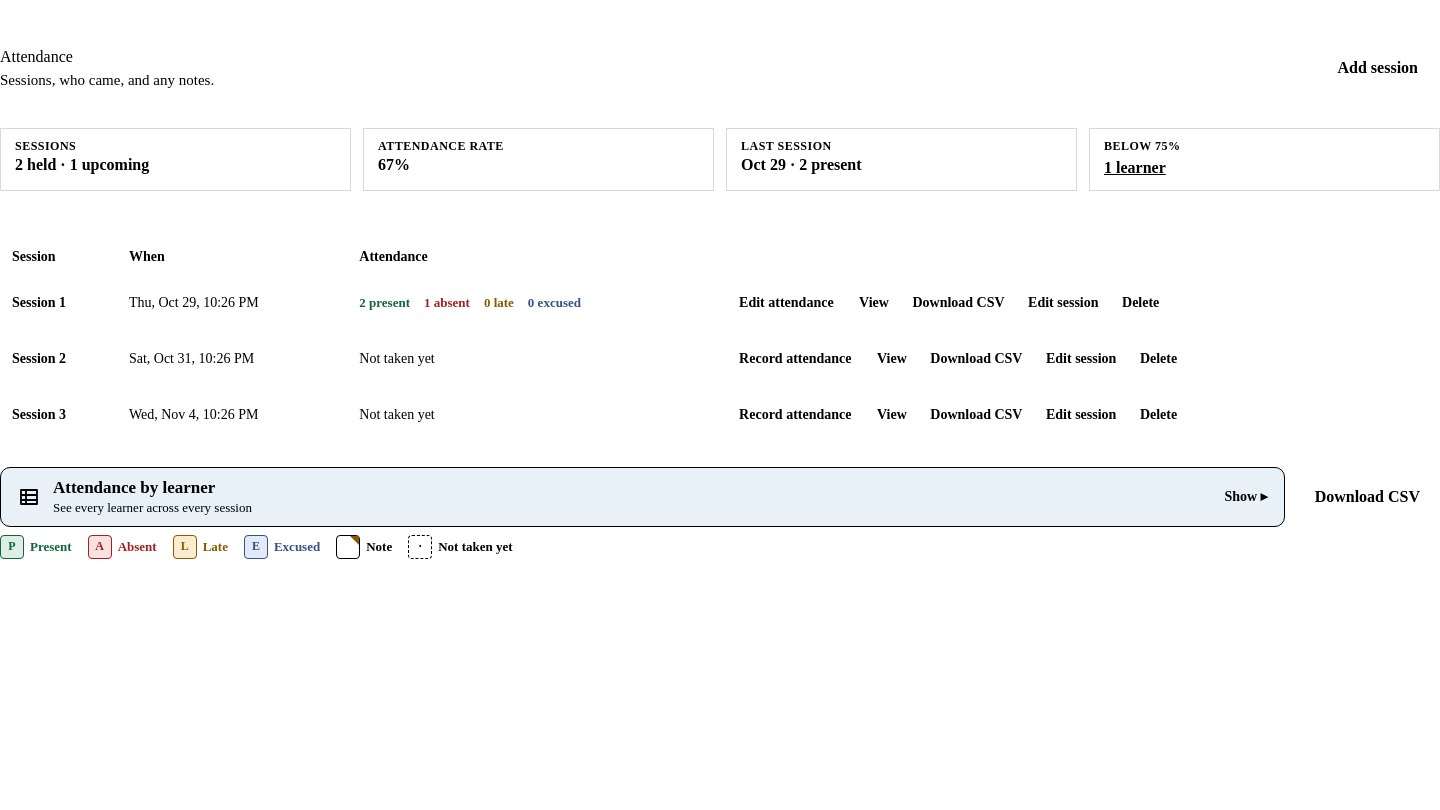
Test: sessions table › View opens a read-only list with statuses and notes, and Edit attendance leads to the sheet
What coordinates should you click on to do the following:
click the button with aria-label "View attendance"
I would click on:
 (874, 303)
Its box is [849,285,899,321].
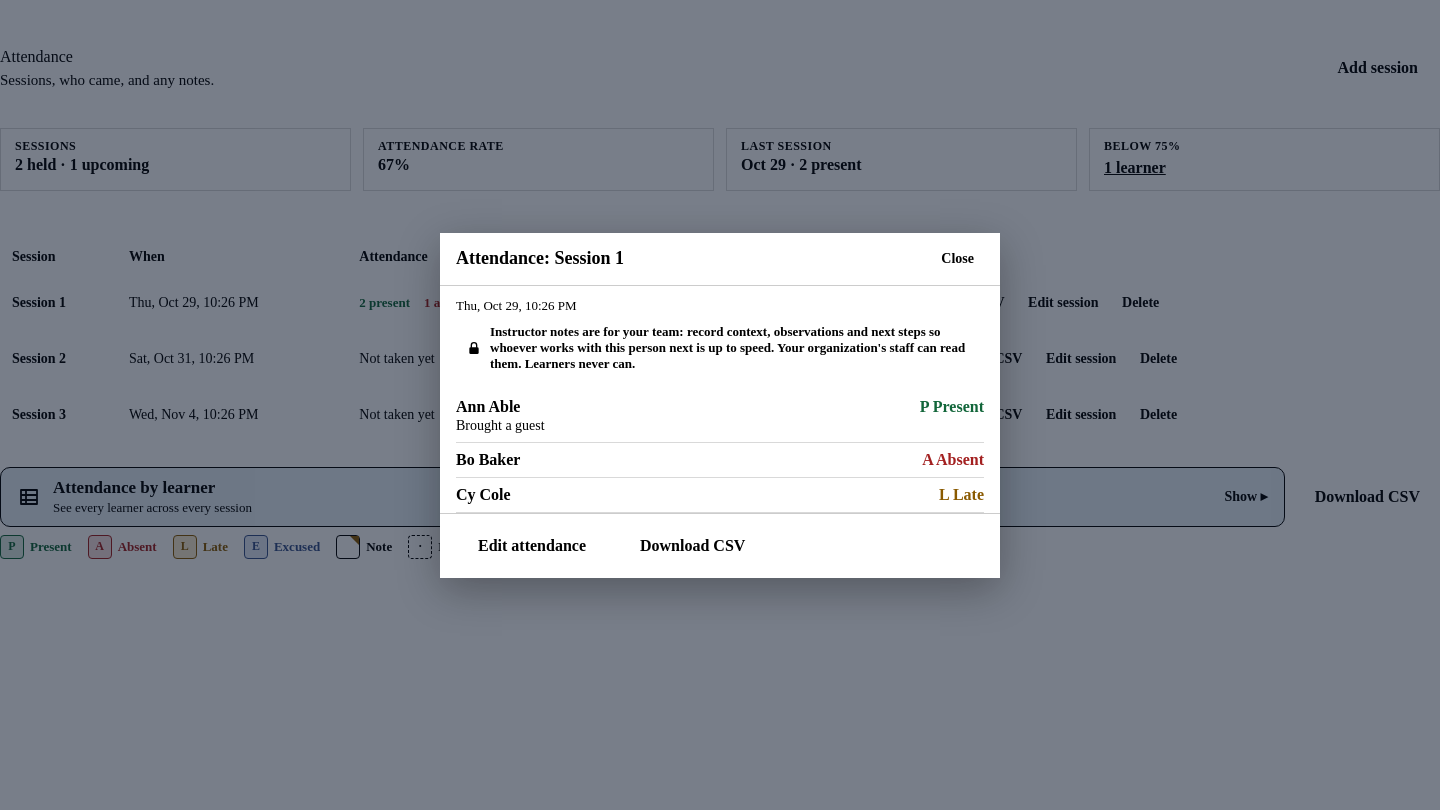
Now the text "Brought a guest" is shown, box [456,418,545,432]
Now the text "Absent" is shown, box [936,450,984,468]
What coordinates should you click on to do the following:
click the button "Download CSV"
I would click on:
 (693, 546)
Its box is [620,526,765,566].
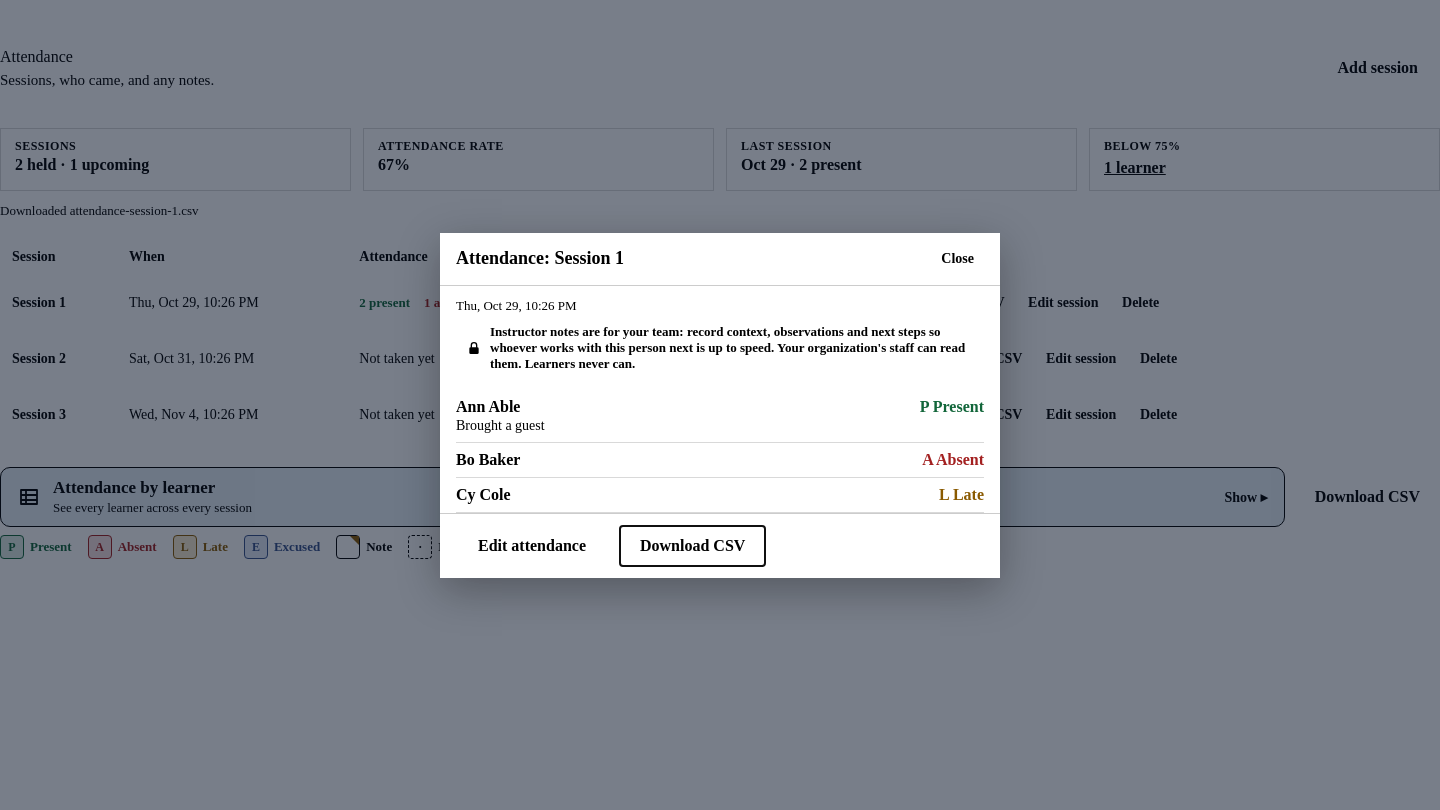
What coordinates should you click on to do the following:
click the button "Edit attendance"
I would click on:
 (532, 546)
Its box is [456,526,608,566].
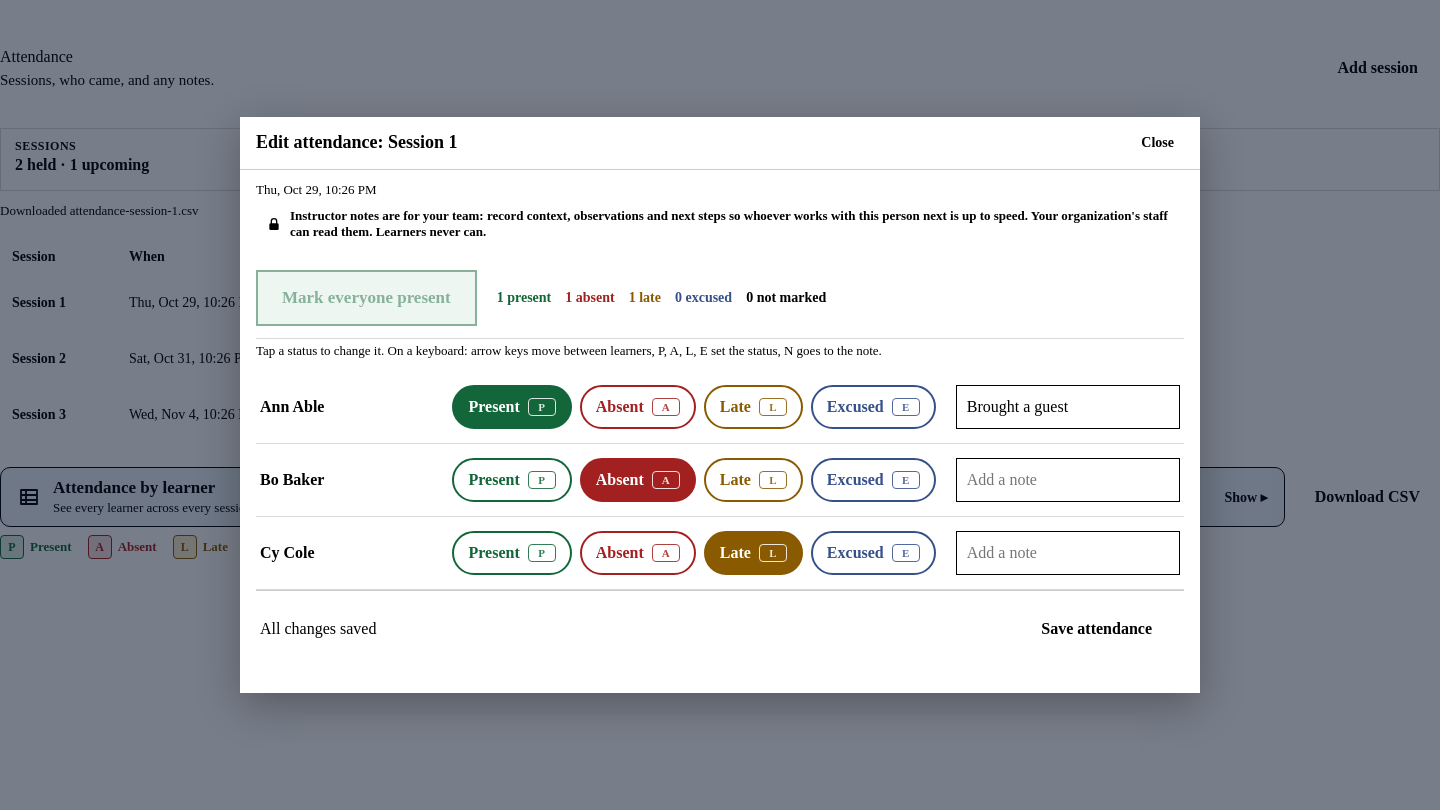
Now the dialog "Edit attendance: Session 1" is shown, box [240,117,1200,693]
